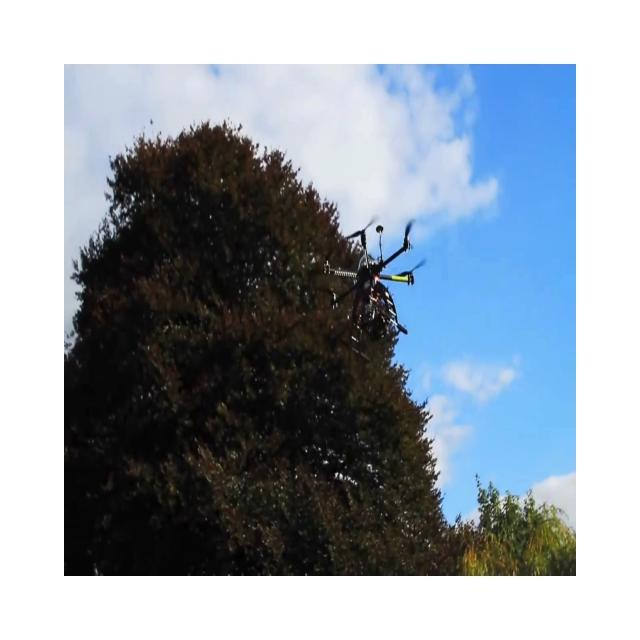drone: (321, 216, 426, 362)
